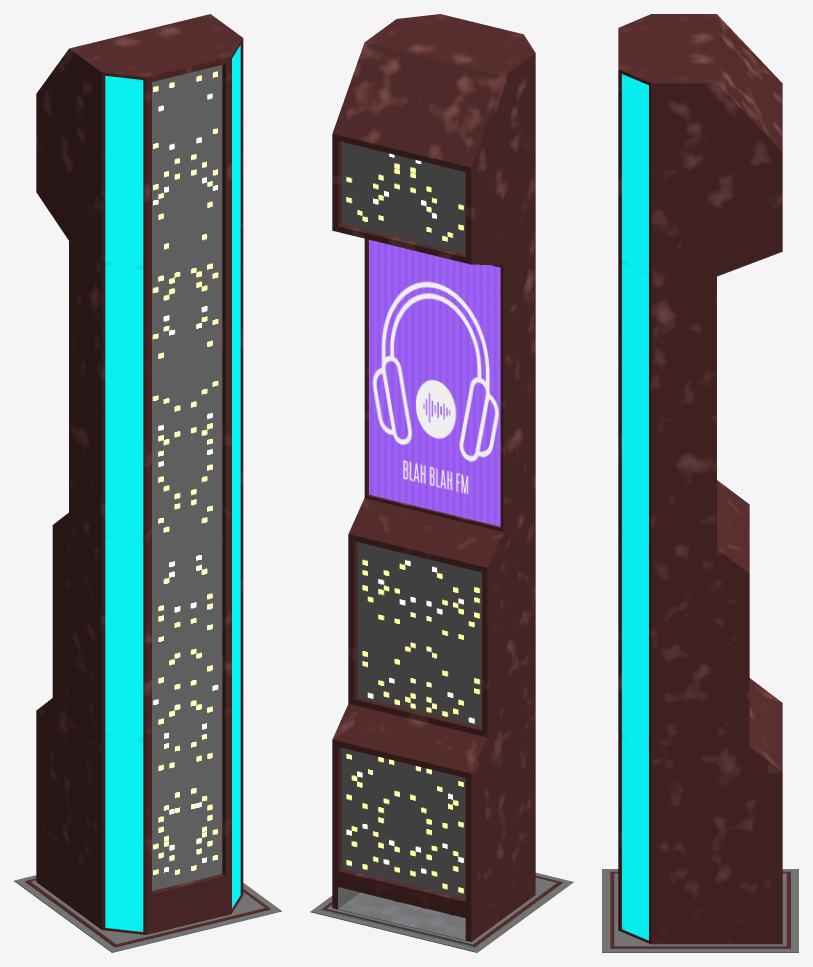
Rendered from Bina 2.fbx.
3 renders of one model, left to right at view 1: azimuth 30°, elevation 25°; view 2: azimuth 150°, elevation 25°; view 3: azimuth 270°, elevation 25°, orthographic. The views are drawn at different scales.
Parts seen in each view (by area): view 1: Candle_1, CandleStand_1; view 2: Candle_1, CandleStand_1; view 3: Candle_1, CandleStand_1.
Part boxes in pixels (x1,y1,x2,y2): Candle_1: (36,14,243,934); CandleStand_1: (14,875,281,952); Candle_1: (332,14,535,941); CandleStand_1: (310,872,573,952); Candle_1: (618,14,782,944); CandleStand_1: (602,869,798,952).
Bounding box in the file's own units: 38.54 × 186 × 38.54.
Materials: 3 (3 with a texture image).
